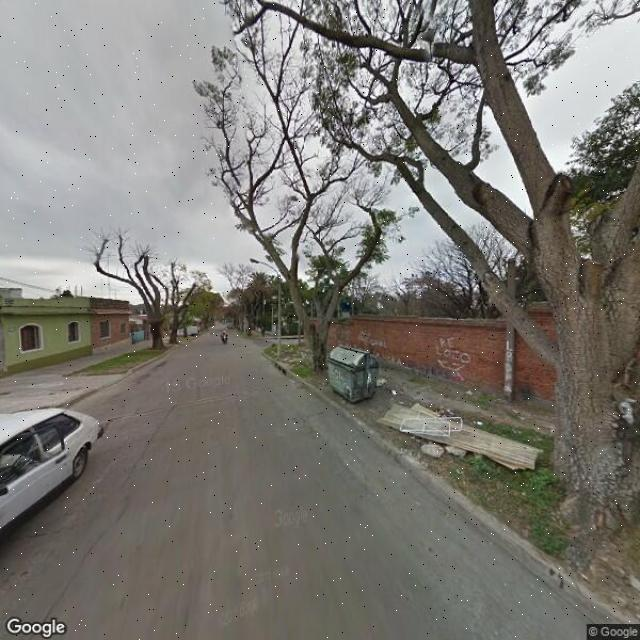garbage container: (320, 338, 386, 415)
